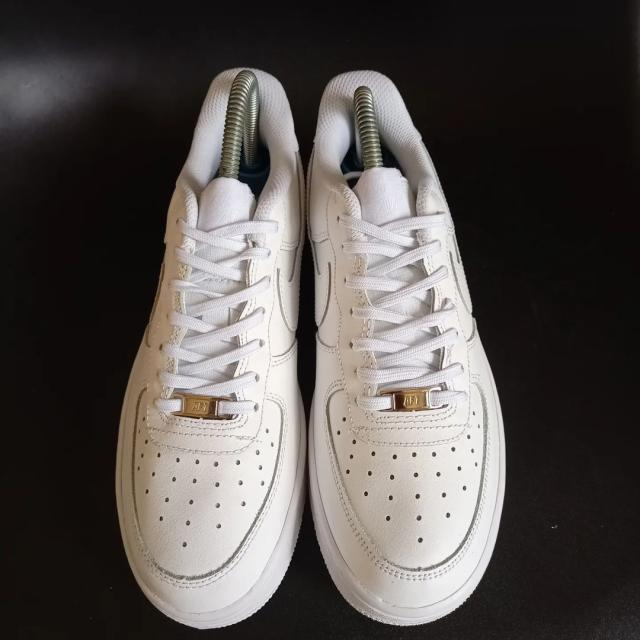nike fake air force: (309, 66, 511, 638), (109, 71, 306, 637)
